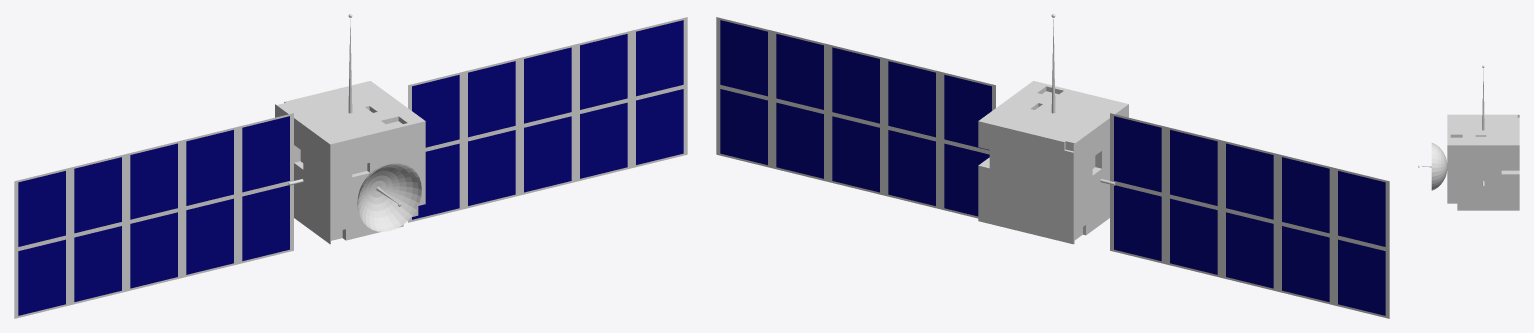
File: satellite.fbx
The picture shows the model from 3 angles, left to right: view 1: azimuth 30°, elevation 25°; view 2: azimuth 150°, elevation 25°; view 3: azimuth 270°, elevation 25°; orthographic projection. The views are drawn at different scales.
Visible parts, largest first — view 1: Plane.001, Plane, Cube, Cone.001; view 2: Plane.001, Plane, Cube; view 3: Cube, Cone.001, Cone.
Part boxes in pixels (bbox=[...]): Plane.001: bbox=[14, 113, 293, 318]; Plane: bbox=[408, 17, 687, 222]; Cube: bbox=[275, 81, 425, 244]; Cone.001: bbox=[357, 163, 421, 231]; Plane.001: bbox=[1110, 113, 1389, 318]; Plane: bbox=[716, 17, 995, 218]; Cube: bbox=[978, 81, 1128, 244]; Cube: bbox=[1447, 114, 1519, 210]; Cone.001: bbox=[1431, 143, 1447, 190]; Cone: bbox=[1482, 65, 1484, 130].
Size of the model in its own units: 1410 by 446 by 280.
